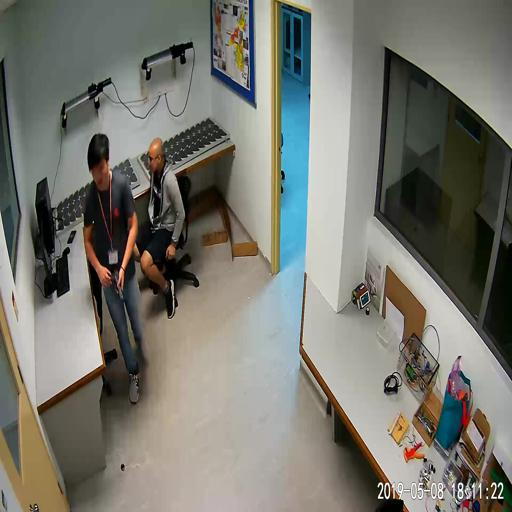pistol: (104, 265, 124, 303)
